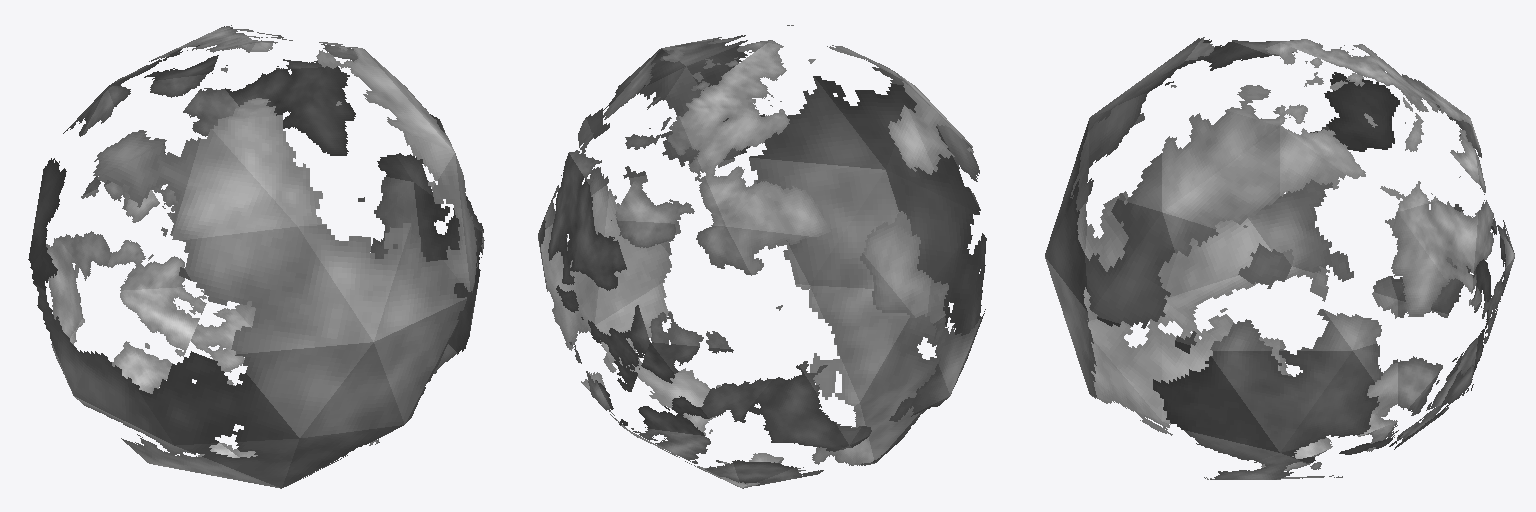
3 renders of one model, left to right at view 1: azimuth 30°, elevation 25°; view 2: azimuth 150°, elevation 25°; view 3: azimuth 270°, elevation 25°, orthographic.
Visible parts, largest first — view 1: CometBody; view 2: CometBody; view 3: CometBody.
Boxes of the visible parts, x1,y1,x2,y2 form: CometBody: [28, 25, 484, 488]; CometBody: [538, 25, 986, 488]; CometBody: [1045, 37, 1514, 479].
Bounding box in the file's own units: 1.12 × 1.18 × 1.18.
1 materials, 1 textured.